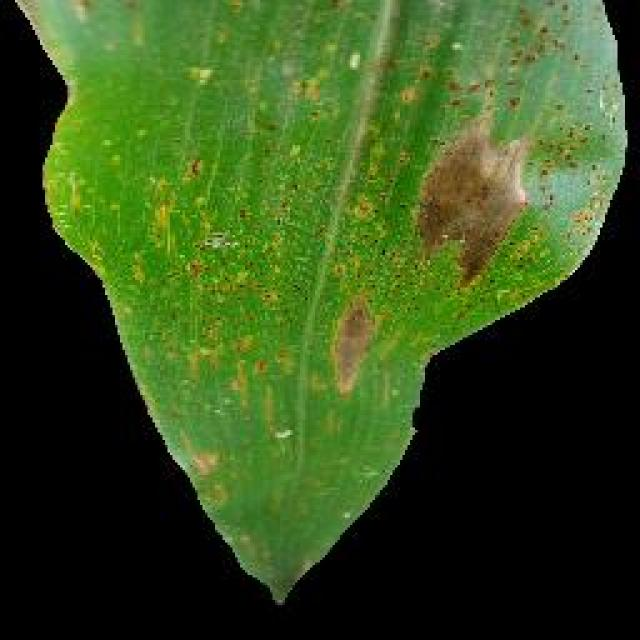Corn Common Rust: (142, 20, 640, 522)
